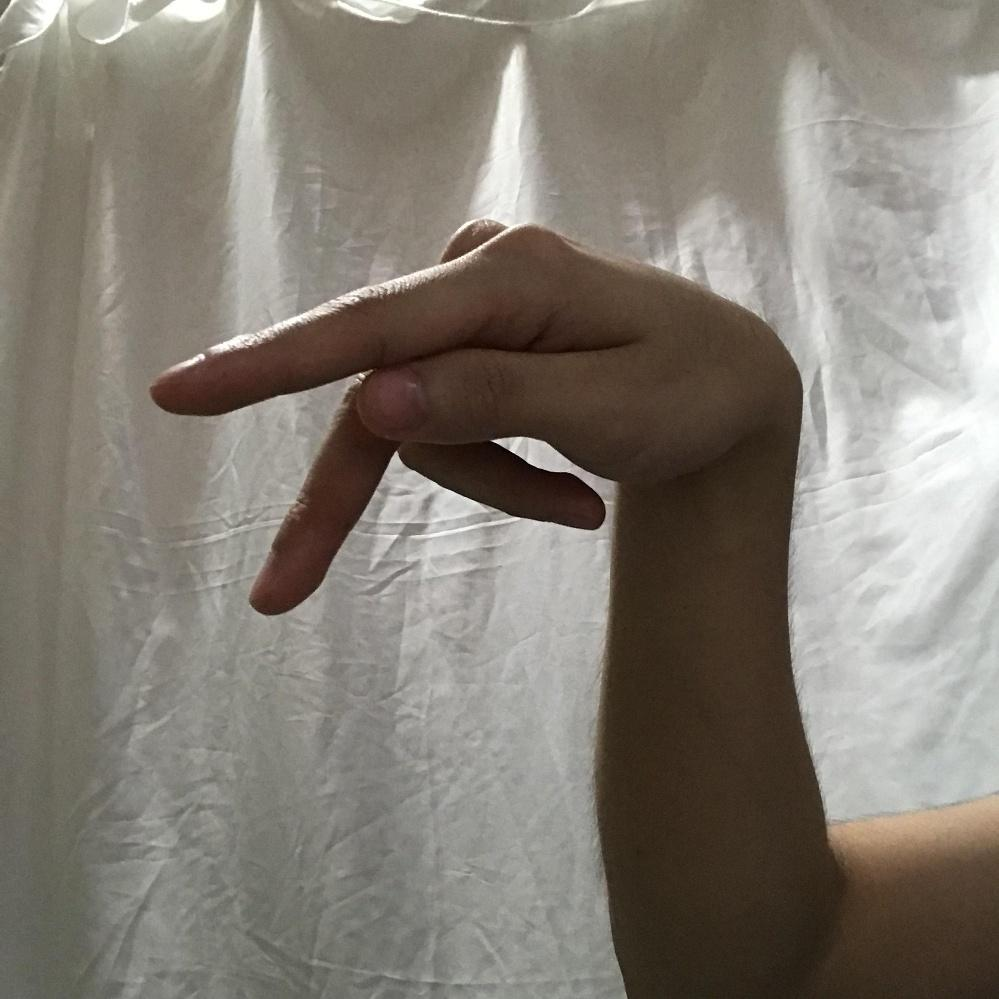p: (144, 221, 805, 611)
